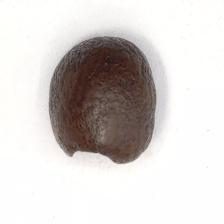NG: (58, 141, 130, 165)
